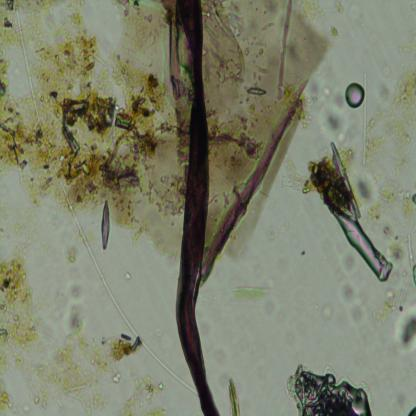Air bubble: (332, 206, 393, 283), (346, 81, 364, 108)
Background material: (52, 0, 191, 257), (202, 0, 328, 283), (0, 0, 56, 206), (31, 279, 114, 412), (282, 358, 375, 416), (366, 74, 416, 175), (0, 254, 44, 364), (302, 148, 353, 216), (310, 76, 358, 146), (355, 174, 416, 226), (372, 286, 416, 350), (116, 370, 170, 416), (335, 251, 368, 324), (226, 280, 282, 305), (104, 333, 141, 363), (381, 224, 406, 263), (0, 362, 16, 414), (226, 377, 242, 415), (406, 232, 416, 286), (121, 271, 133, 281), (407, 406, 416, 416)
Cotton: (176, 0, 220, 416)
Diatom: (329, 143, 359, 210), (99, 199, 112, 250)
Glass filter fibre: (13, 7, 93, 250), (88, 251, 192, 390), (361, 70, 369, 166)
